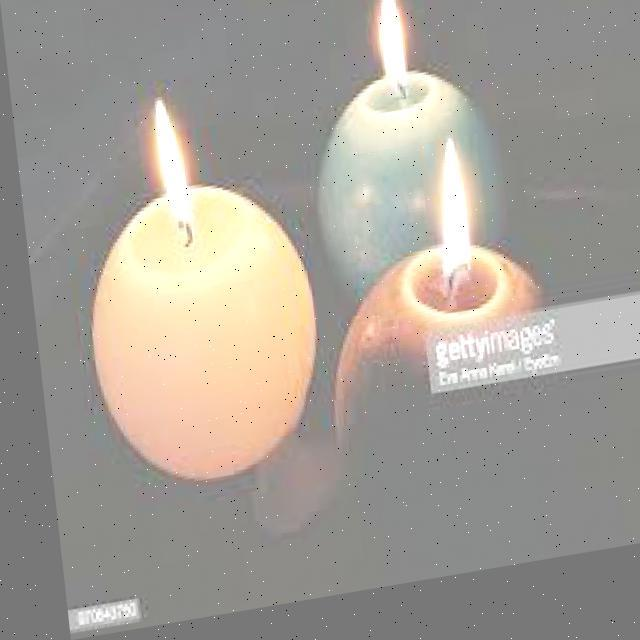Fire: (412, 134, 474, 286), (133, 94, 190, 228), (362, 0, 427, 114)
